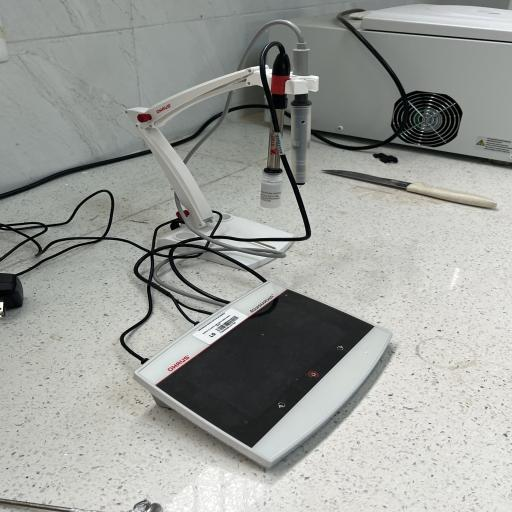Phmetro_Ohaus: (116, 276, 426, 476)
